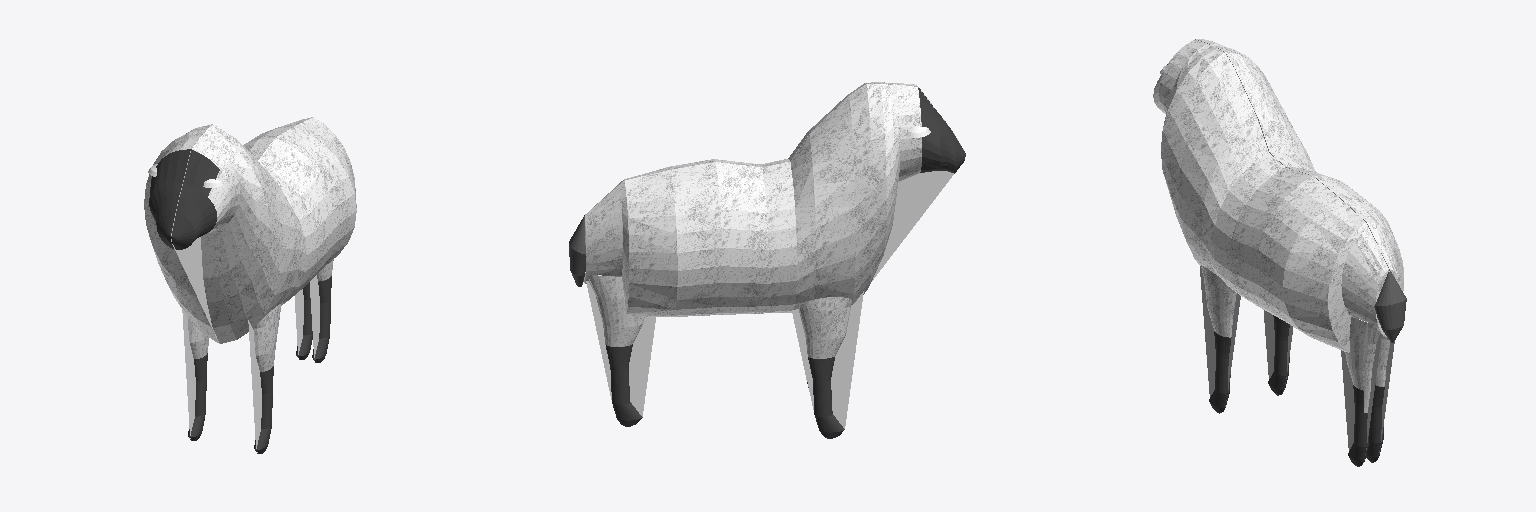
3 renders of one model, left to right at view 1: azimuth 30°, elevation 25°; view 2: azimuth 150°, elevation 25°; view 3: azimuth 270°, elevation 25°, orthographic.
Visible parts, largest first — view 1: sheep:Mesh4Model, sheep:Mesh1Model, sheep:Mesh10Model, sheep:Mesh3Model, sheep:Mesh9Model, sheep:Mesh2Model; view 2: sheep:Mesh1Model, sheep:Mesh8Model, sheep:Mesh7Model, sheep:Mesh3Model, sheep:Mesh2Model, sheep:Mesh4Model, sheep:Mesh11Model; view 3: sheep:Mesh4Model, sheep:Mesh1Model, sheep:Mesh9Model, sheep:Mesh10Model, sheep:Mesh3Model, sheep:Mesh2Model, sheep:Mesh12Model.
Part boxes in pixels (bbox=[...]): sheep:Mesh4Model: bbox=[171, 117, 356, 343]; sheep:Mesh1Model: bbox=[144, 117, 312, 343]; sheep:Mesh10Model: bbox=[248, 304, 280, 453]; sheep:Mesh3Model: bbox=[182, 308, 208, 440]; sheep:Mesh9Model: bbox=[310, 259, 333, 362]; sheep:Mesh2Model: bbox=[295, 282, 312, 359]; sheep:Mesh1Model: bbox=[585, 84, 965, 316]; sheep:Mesh8Model: bbox=[792, 297, 851, 438]; sheep:Mesh7Model: bbox=[585, 272, 644, 426]; sheep:Mesh3Model: bbox=[831, 291, 863, 427]; sheep:Mesh2Model: bbox=[629, 317, 655, 416]; sheep:Mesh4Model: bbox=[584, 82, 963, 282]; sheep:Mesh11Model: bbox=[570, 216, 585, 286]; sheep:Mesh4Model: bbox=[1153, 40, 1388, 352]; sheep:Mesh1Model: bbox=[1195, 39, 1403, 290]; sheep:Mesh9Model: bbox=[1341, 317, 1379, 466]; sheep:Mesh10Model: bbox=[1200, 265, 1236, 413]; sheep:Mesh3Model: bbox=[1264, 310, 1289, 395]; sheep:Mesh2Model: bbox=[1366, 336, 1389, 462]; sheep:Mesh12Model: bbox=[1374, 271, 1397, 342].
Bounding box in the file's own units: 3.41 × 3.83 × 2.61.
Materials: 5 (1 with a texture image).